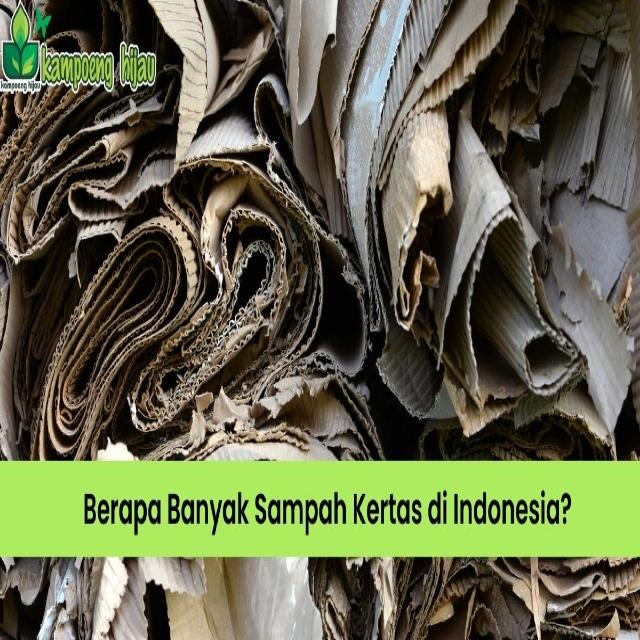Kertas: (27, 105, 627, 472)
